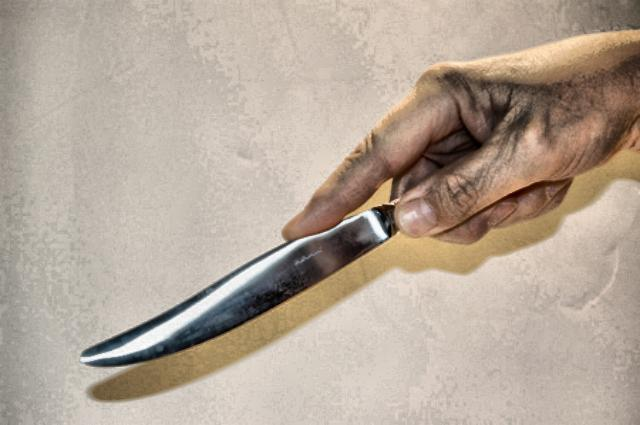knife: (68, 126, 450, 374)
